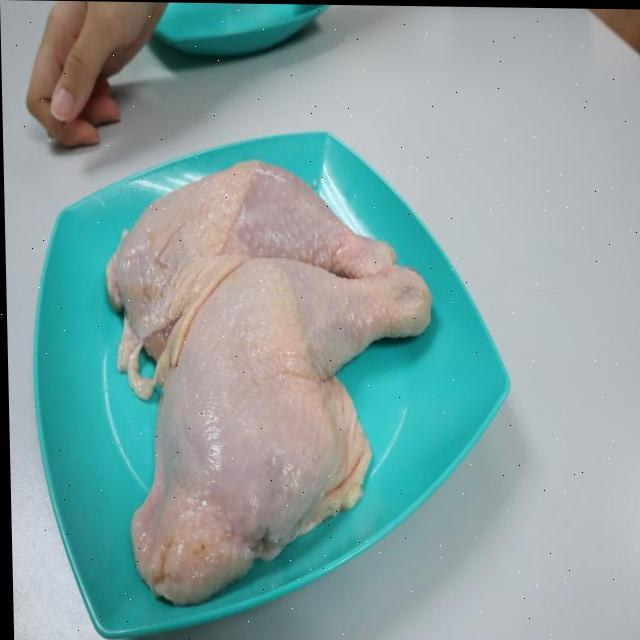quater: (134, 258, 432, 590), (99, 162, 399, 286)
